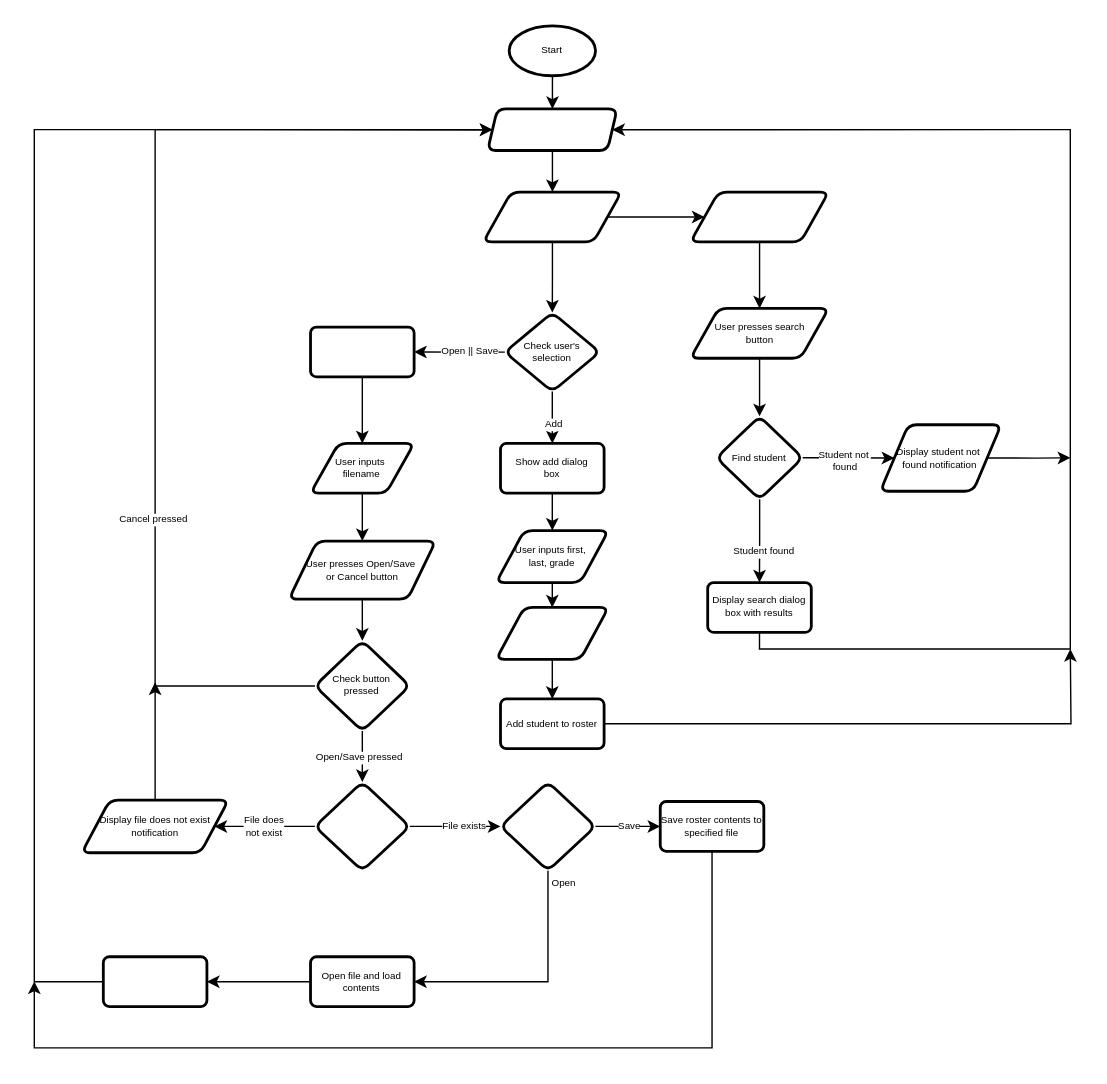
Image size: 1107x1084. Some labels were removed from this diagram. The box of each missing label's shape, as (x1, y1, x2, y2) in pixels:
Check if file exists: (313, 780, 410, 872)
Check if open or save: (498, 780, 596, 872)
Display main page: (486, 107, 618, 151)
Show open/save dialog box: (308, 325, 415, 378)
Update roster display: (101, 955, 208, 1007)
User inputs search name: (688, 190, 829, 243)
User makes selection from main menu: (481, 190, 622, 243)
User presses done button: (494, 605, 609, 660)
